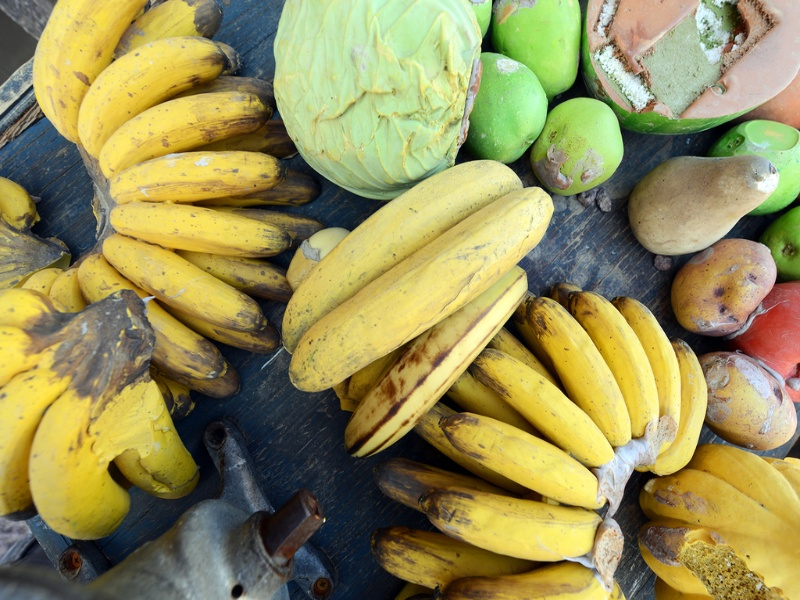banana: (412, 248, 658, 600), (276, 173, 550, 455), (1, 259, 202, 537), (28, 4, 285, 206), (21, 204, 291, 309)
